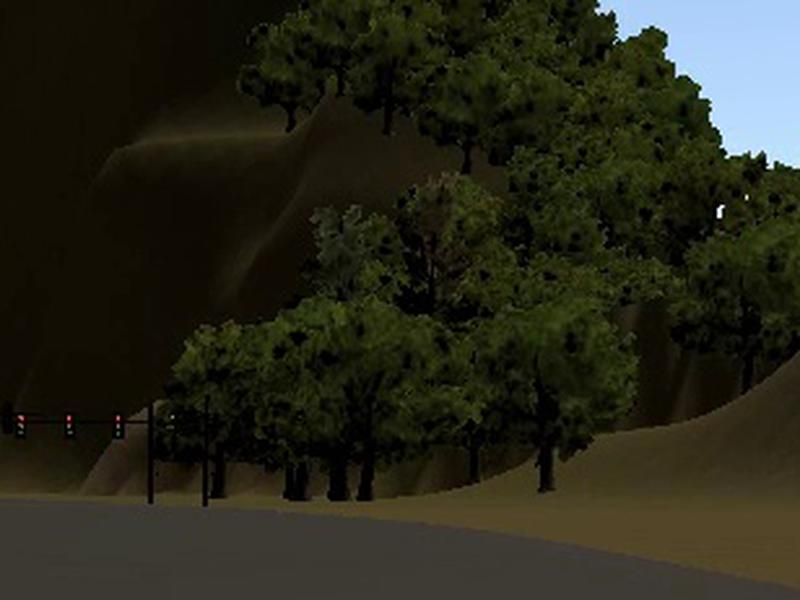Red: (64, 411, 75, 439), (15, 413, 27, 438), (113, 413, 124, 439)
